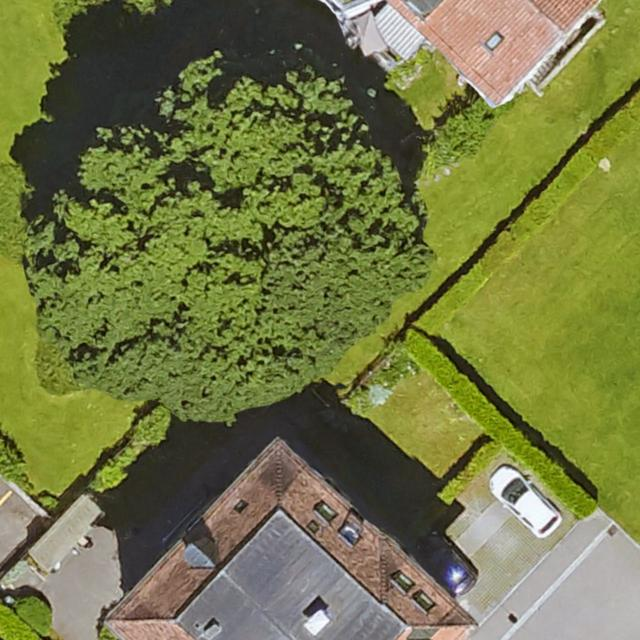tree: (41, 63, 427, 392)
